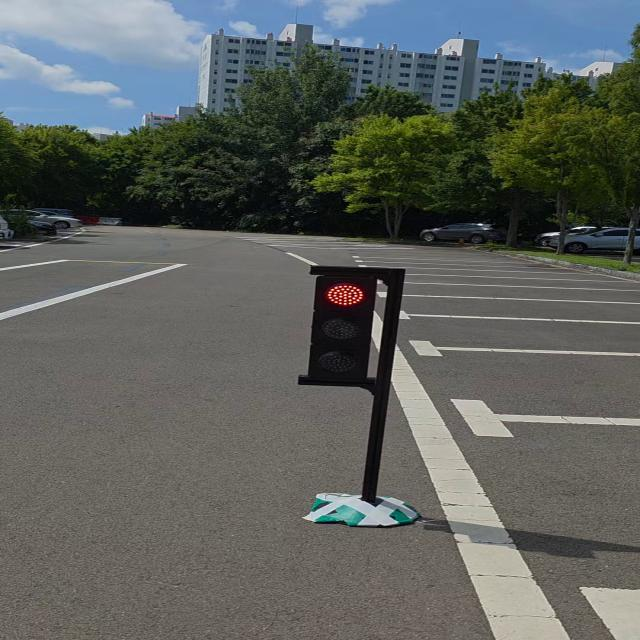red: (295, 266, 391, 387)
